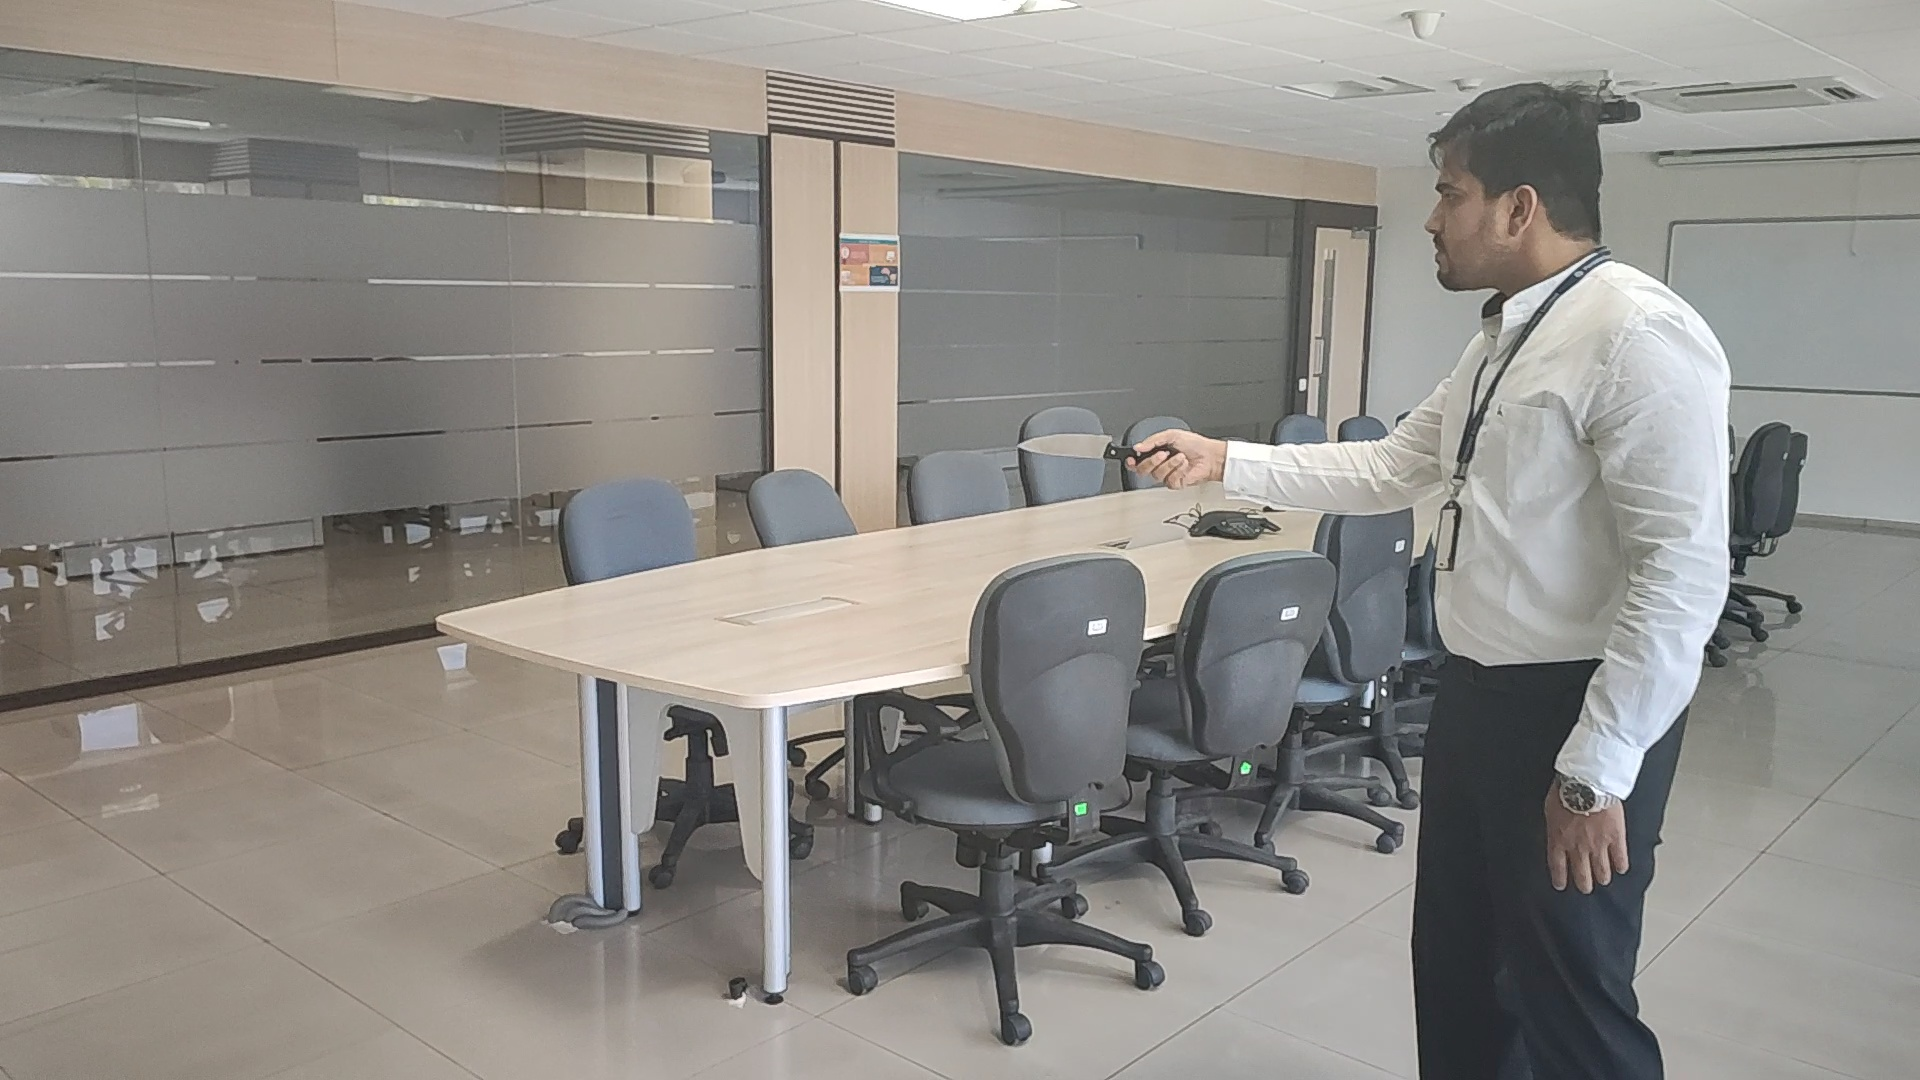knife: (1015, 429, 1142, 464)
